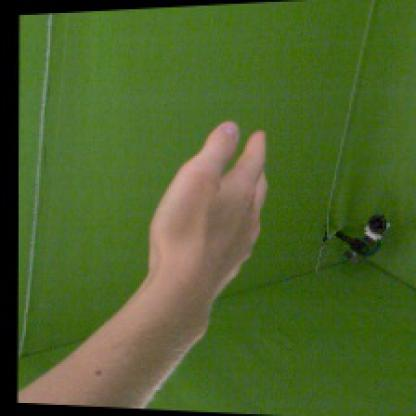Hand: (146, 118, 270, 334)
